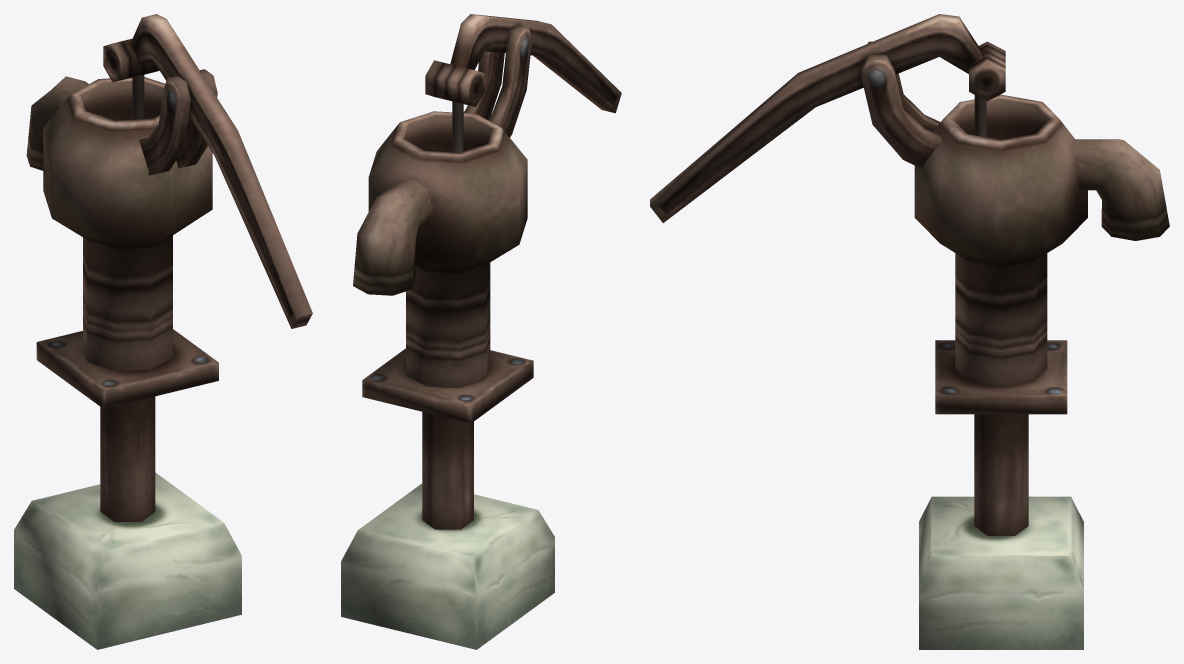
Rendered from a_SWApump01.glb.
The picture shows the model from 3 angles, left to right: view 1: azimuth 30°, elevation 25°; view 2: azimuth 150°, elevation 25°; view 3: azimuth 270°, elevation 25°; orthographic projection. The views are drawn at different scales.
Visible parts, largest first — view 1: a_SWApump01; view 2: a_SWApump01; view 3: a_SWApump01.
Boxes of the visible parts, box(x1,y1,x2,y2) form: a_SWApump01: box(14, 14, 312, 649); a_SWApump01: box(341, 14, 621, 649); a_SWApump01: box(650, 14, 1169, 649).
Bounding box in the file's own units: 0.3681 × 1.4 × 1.1.
Materials: 1 (1 with a texture image).
